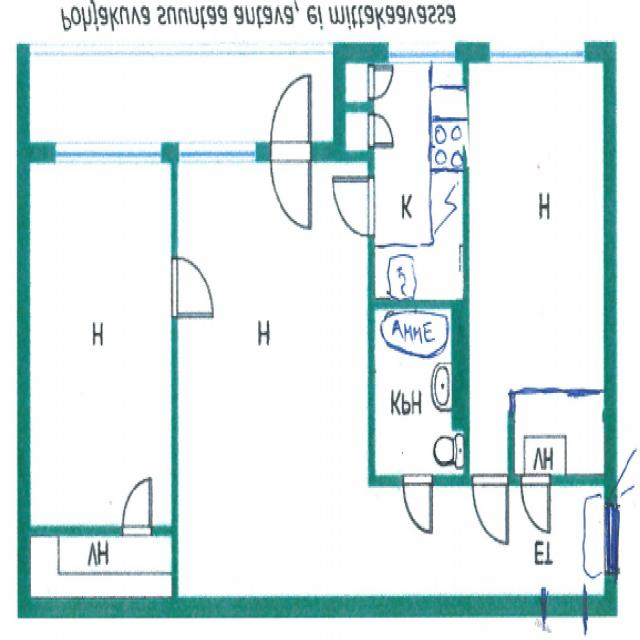door: (270, 141, 311, 231), (270, 73, 311, 163), (333, 178, 375, 235), (473, 474, 507, 542), (172, 258, 212, 315), (122, 476, 151, 536), (404, 474, 432, 532), (522, 474, 549, 532)
